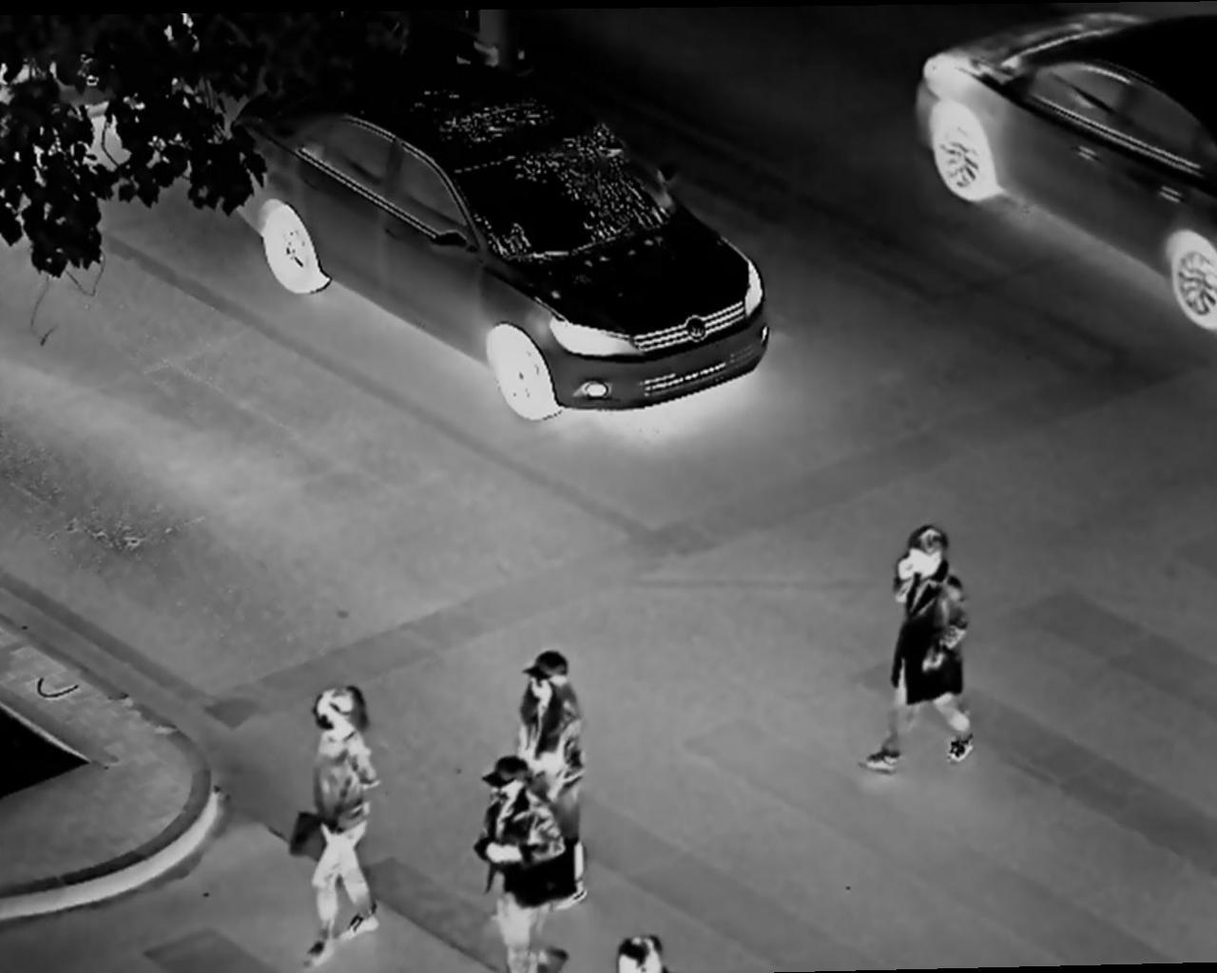person: (290, 684, 397, 946), (860, 518, 966, 779), (511, 650, 596, 858), (483, 759, 556, 973), (614, 936, 669, 973)
